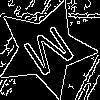M: (20, 24, 83, 86)
